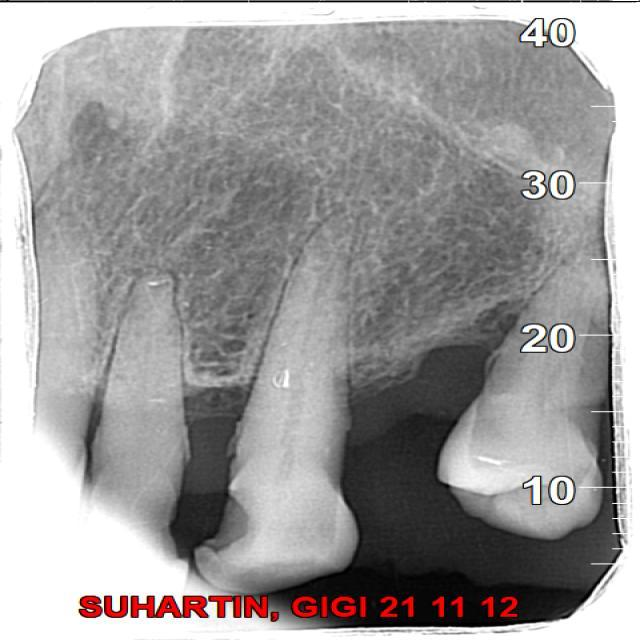individual-tooth-8tto: (201, 217, 354, 590)
